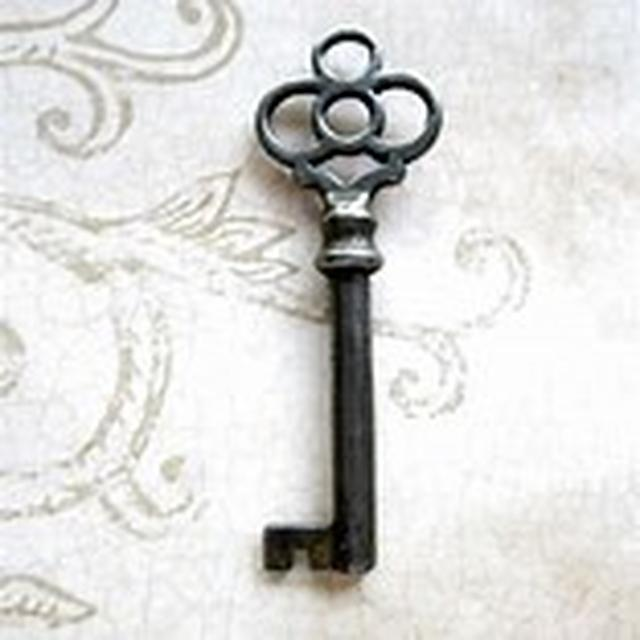key: (225, 35, 458, 588)
